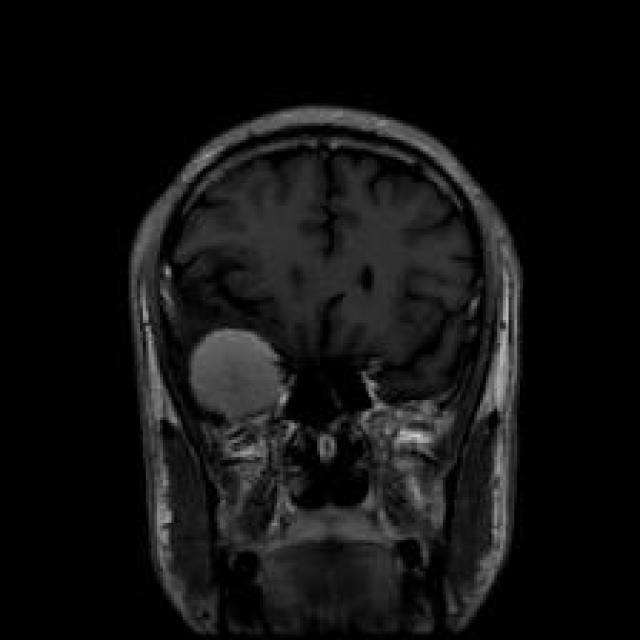meningioma_tumor: (169, 307, 297, 447)
